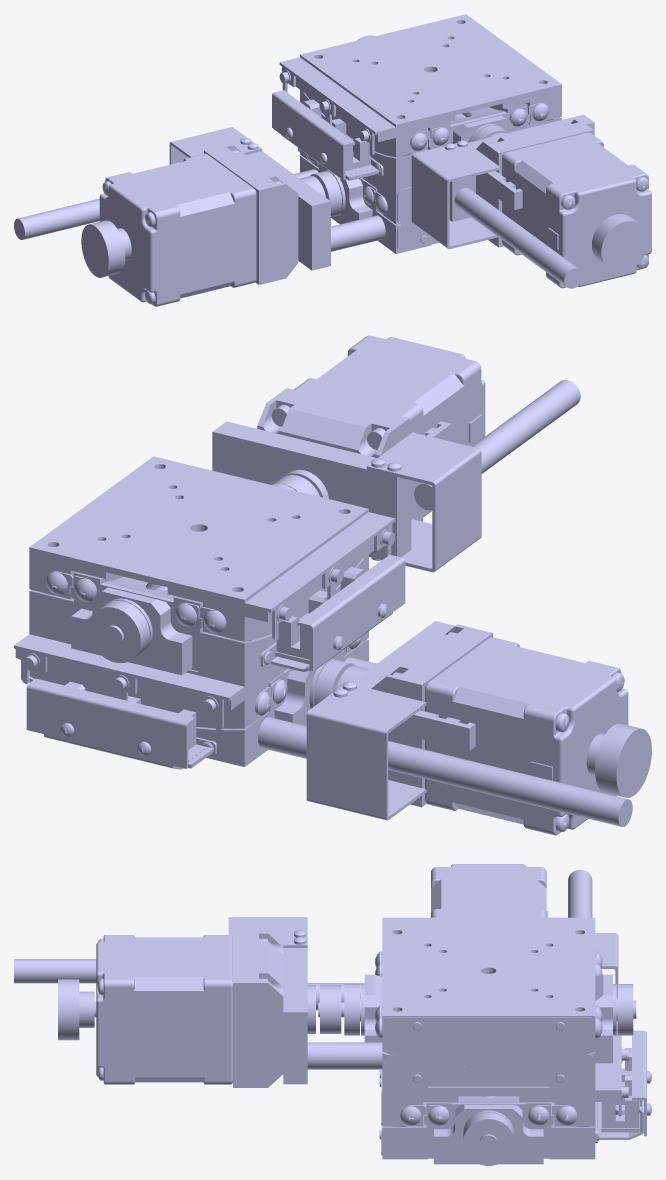
Rendered from INSP_SEM_Rotation.fbx.
3 renders of one model, top to bottom at view 1: azimuth 30°, elevation 25°; view 2: azimuth 150°, elevation 25°; view 3: azimuth 270°, elevation 25°, orthographic. The views are drawn at different scales.
Visible parts, largest first — view 1: COMPOUND001, ZYo_Part_New001, Z Roll, ZPitch, ZYo_Part_New, COMPOUND; view 2: COMPOUND001, Z Roll, ZYo_Part_New001, ZPitch, COMPOUND, ZYo_Part_New; view 3: ZYo_Part_New001, Z Roll, COMPOUND001, ZPitch, ZYo_Part_New, COMPOUND.
Boxes of the visible parts, x1,y1,x2,y2 form: COMPOUND001: (81, 127, 439, 306); ZYo_Part_New001: (411, 114, 651, 288); Z Roll: (279, 14, 561, 157); ZPitch: (272, 35, 561, 224); ZYo_Part_New: (454, 188, 582, 288); COMPOUND: (14, 198, 99, 239); COMPOUND001: (26, 621, 651, 835); Z Roll: (29, 456, 395, 641); ZYo_Part_New001: (212, 335, 485, 572); ZPitch: (14, 475, 405, 730); COMPOUND: (388, 741, 632, 826); ZYo_Part_New: (414, 380, 580, 510); ZYo_Part_New001: (58, 917, 382, 1087); Z Roll: (375, 917, 602, 1067); COMPOUND001: (379, 864, 651, 1165); ZPitch: (318, 960, 636, 1126); ZYo_Part_New: (14, 959, 96, 983); COMPOUND: (568, 869, 592, 917).
Bounding box in the file's own units: 0.3067 × 0.3144 × 0.096.
